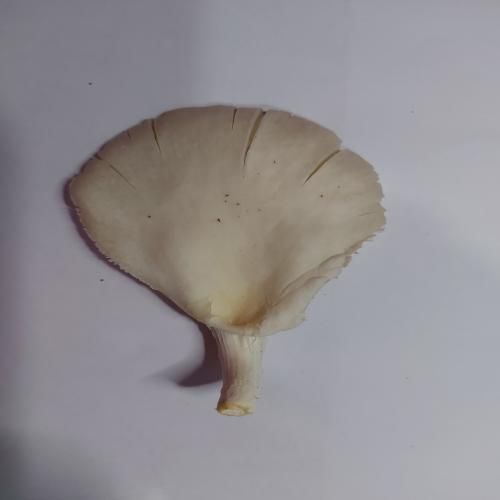Oyster Mushroom: (66, 103, 388, 417)
